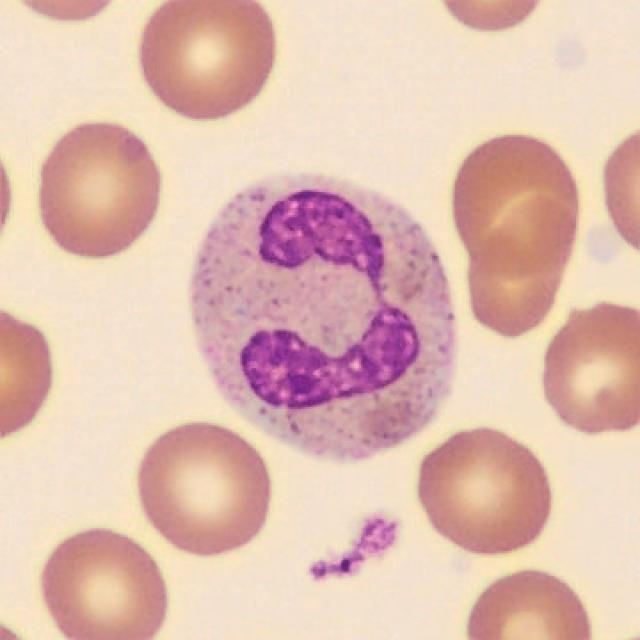Neutrofilo segmentado: (192, 172, 459, 460)
